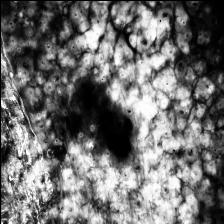Potentially Malignant Skin Tumors: (13, 53, 153, 184)
